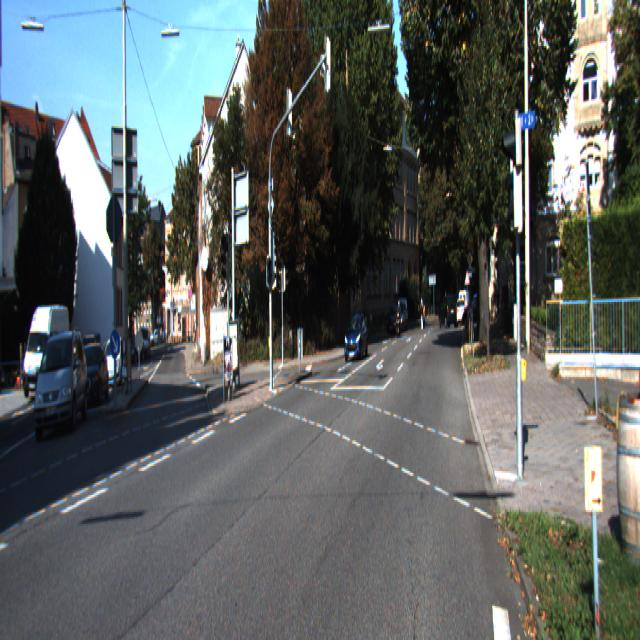Car: (34, 324, 91, 442), (70, 340, 109, 415), (344, 311, 369, 363)
DontCare: (434, 272, 481, 338), (126, 311, 166, 368)
Misc: (395, 298, 403, 336)
Van: (24, 304, 72, 401)
